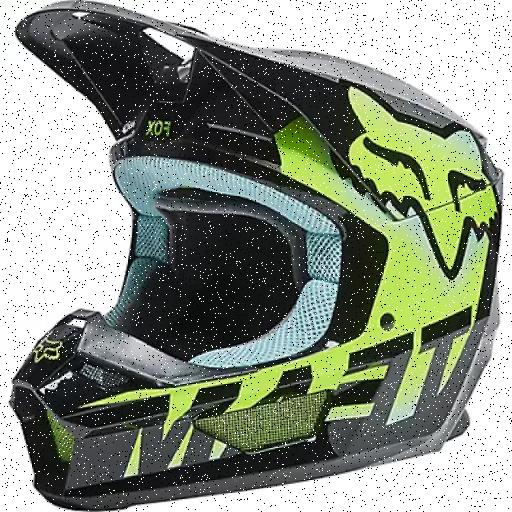Helmet: (15, 5, 500, 512)
